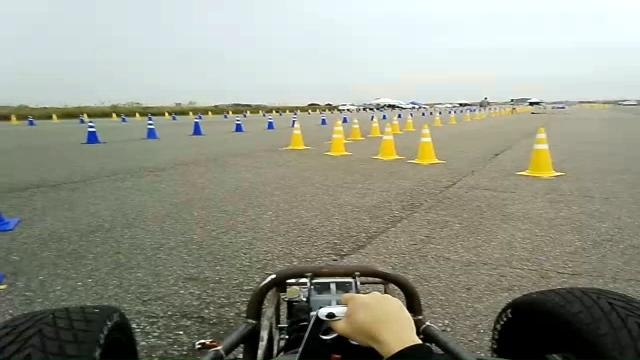blue cone: (138, 115, 160, 139), (86, 119, 102, 143), (188, 119, 206, 136), (266, 116, 276, 130), (233, 120, 244, 132), (319, 114, 328, 126), (342, 114, 348, 123)
yellow cone: (515, 126, 565, 178), (406, 123, 446, 164), (370, 125, 405, 160), (279, 121, 313, 150), (324, 134, 352, 156), (346, 118, 366, 140), (331, 120, 348, 141), (367, 117, 382, 137), (402, 114, 416, 131), (390, 116, 403, 134), (433, 114, 442, 126), (447, 114, 457, 124), (462, 111, 471, 122)
